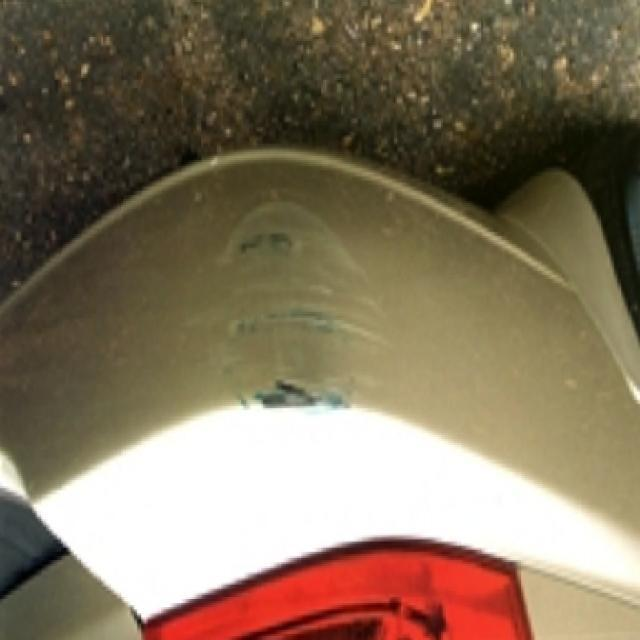scratch: (212, 198, 402, 424)
